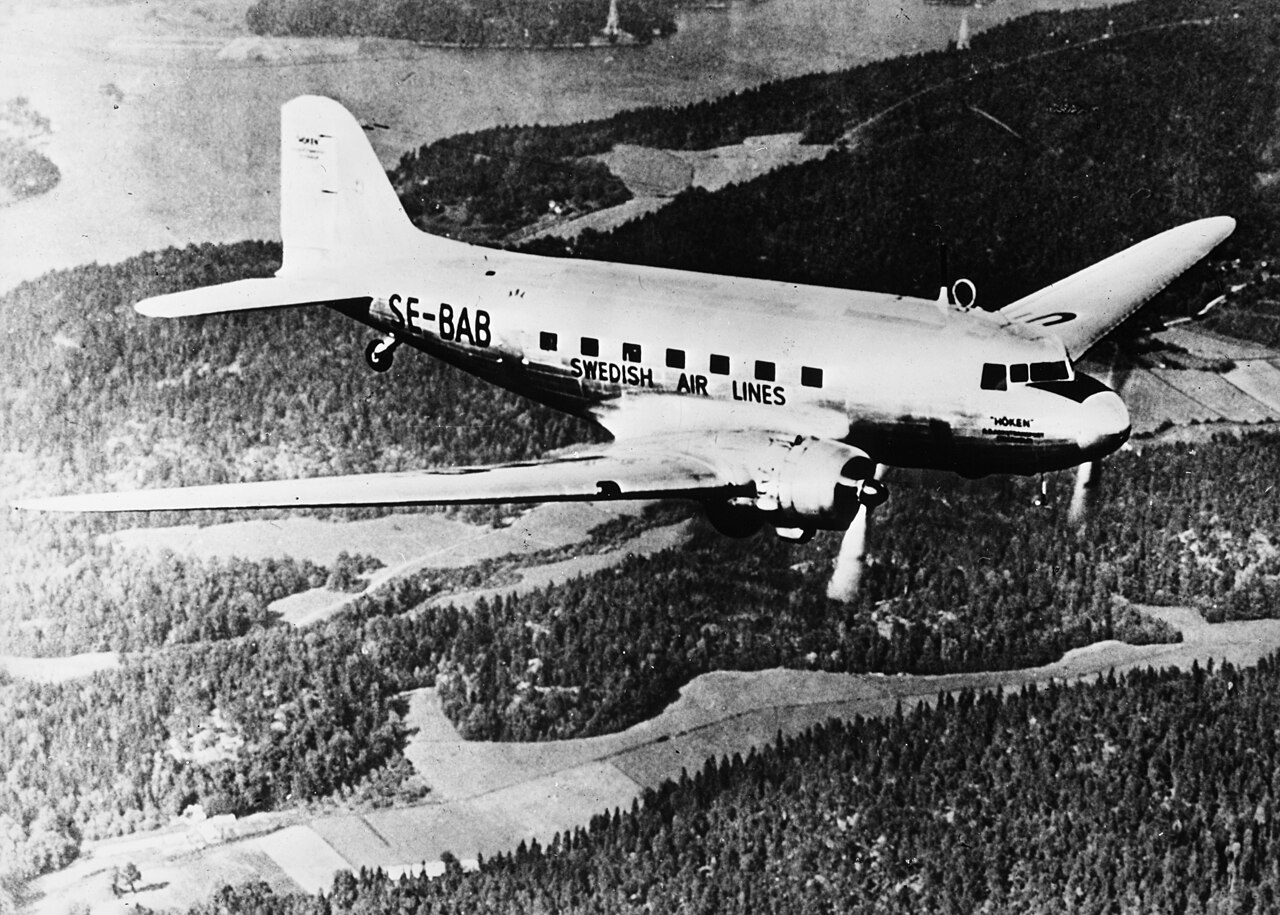aircraft: (9, 100, 1238, 606)
